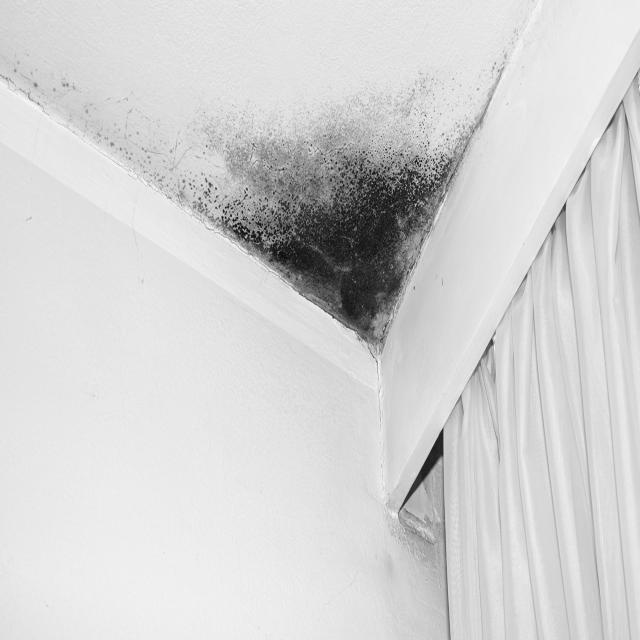stain marks: (1, 14, 514, 359)
